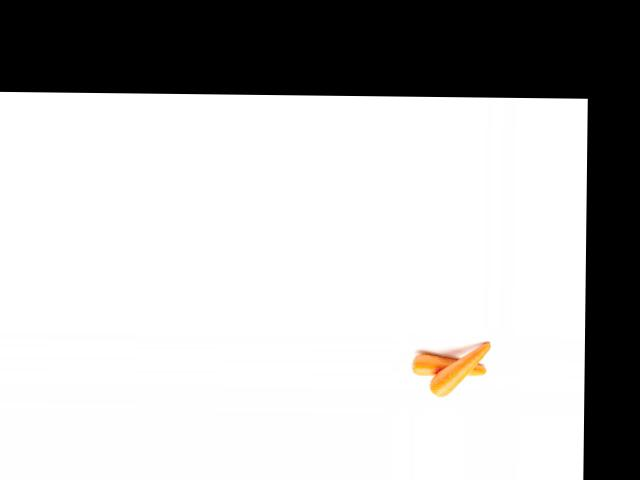carrot: (406, 350, 495, 379)
